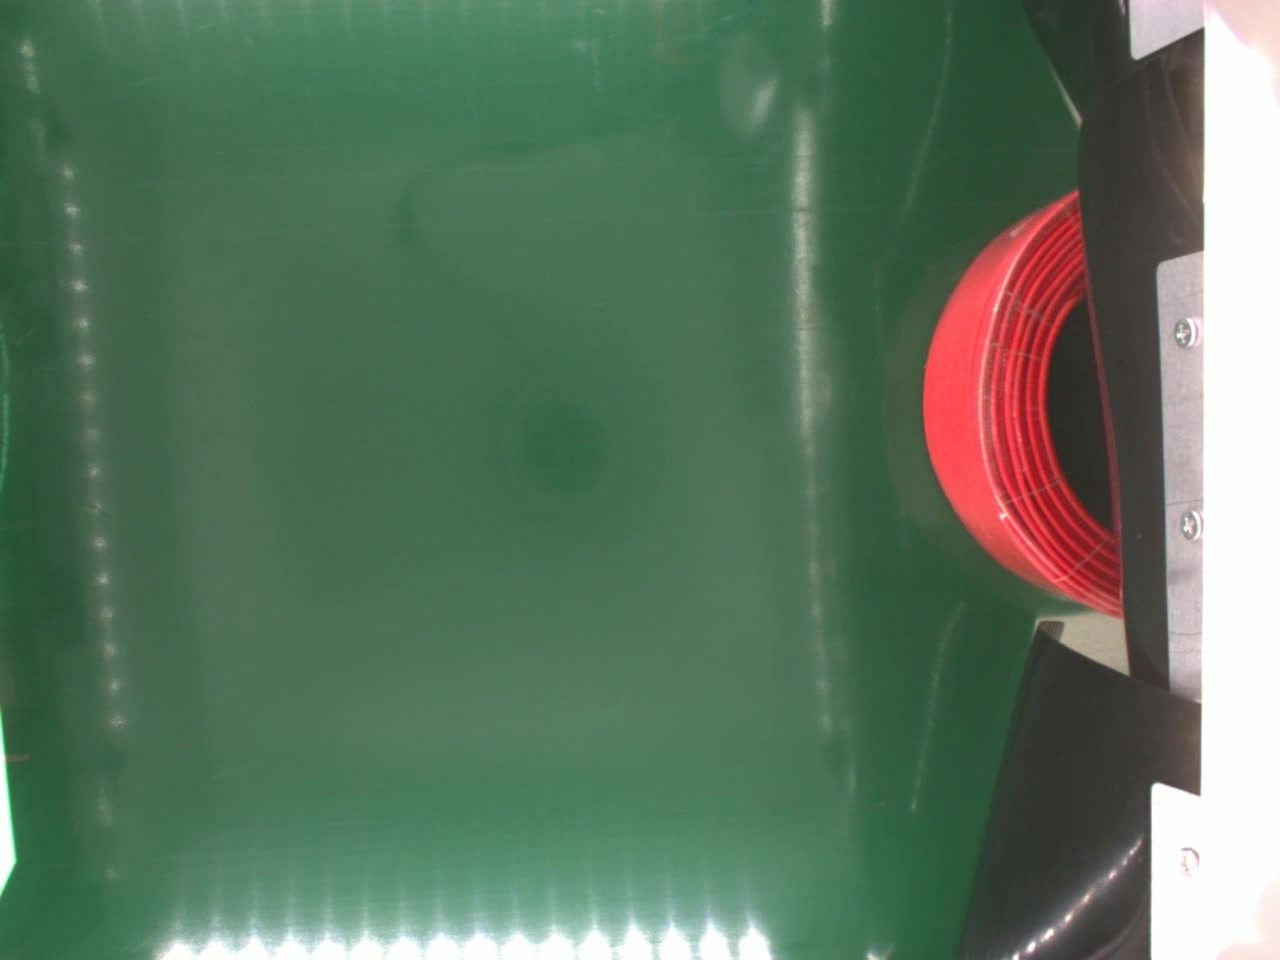red: (917, 188, 1124, 622)
